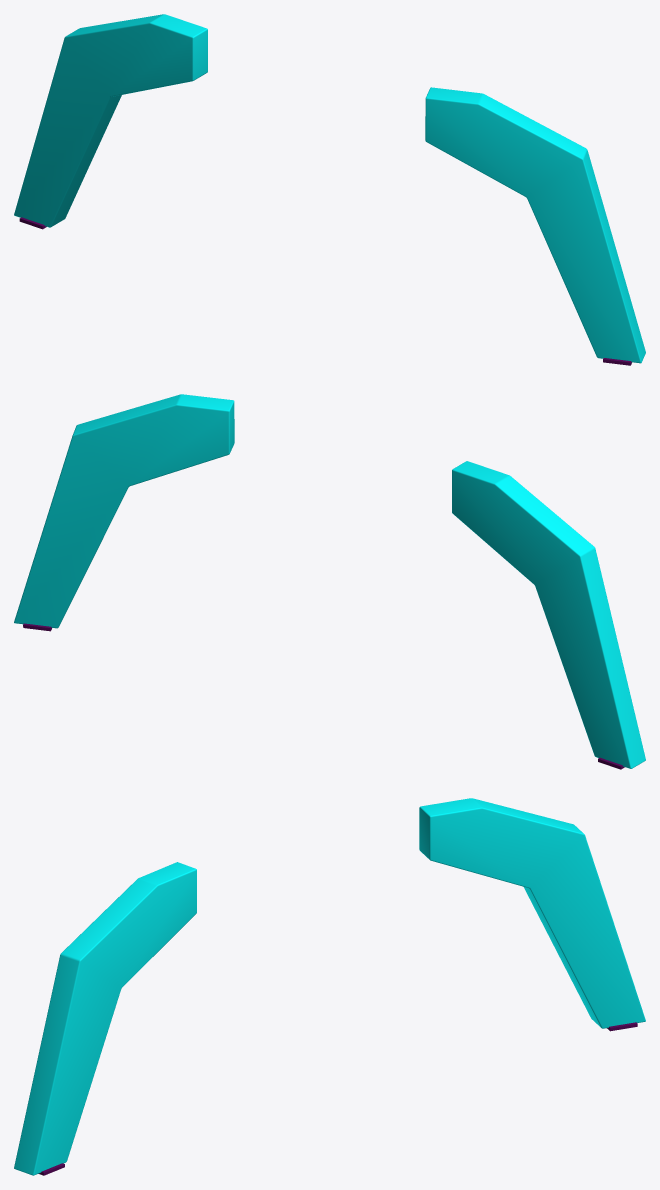
File: levante_leg_corner_middle_mirror.gltf
3 renders of one model, top to bottom at view 1: azimuth 30°, elevation 25°; view 2: azimuth 210°, elevation 25°; view 3: azimuth 270°, elevation 25°, orthographic.
Parts seen in each view (by area): view 1: leg_corner_middle_mirror; view 2: leg_corner_middle_mirror; view 3: leg_corner_middle_mirror.
Part boxes in pixels (x1,y1,x2,y2): leg_corner_middle_mirror: [14, 14, 645, 365]; leg_corner_middle_mirror: [14, 394, 645, 769]; leg_corner_middle_mirror: [14, 798, 645, 1175].
Bounding box in the file's own units: 0.3417 × 0.2361 × 0.5566.
